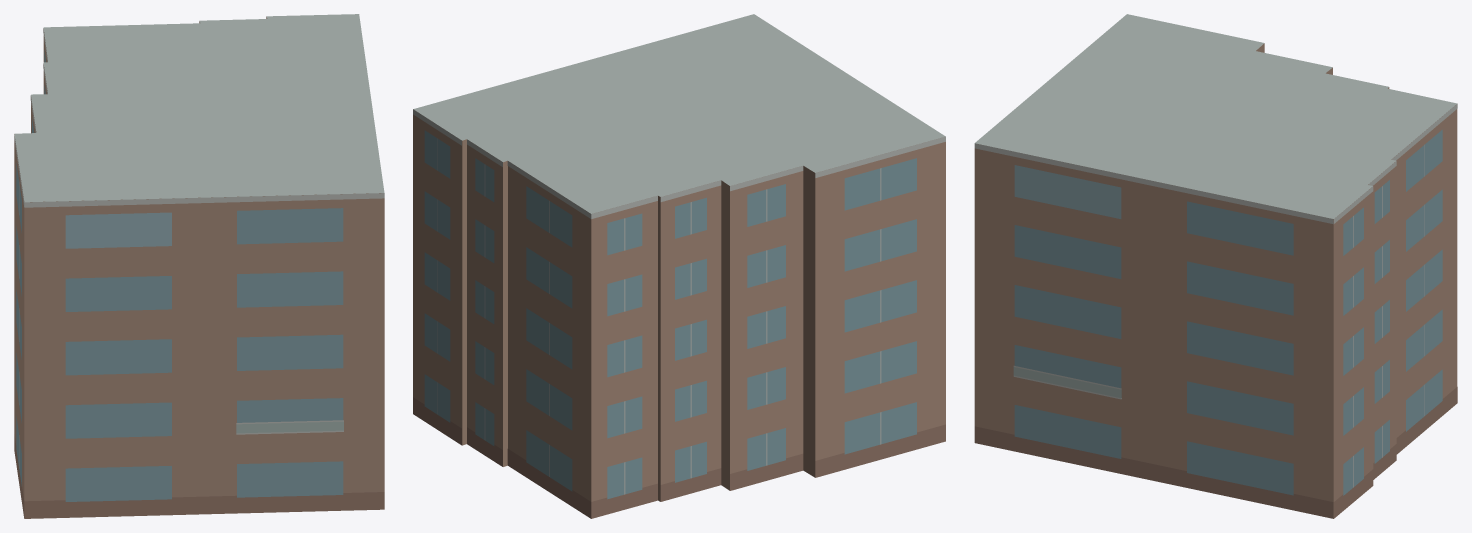
File: survey-upis-32710021.glb
3 views of the same model, side by side, from view 1: azimuth 30°, elevation 25°; view 2: azimuth 150°, elevation 25°; view 3: azimuth 270°, elevation 25° (orthographic). The views are drawn at different scales.
Parts seen in each view (by area): view 1: survey-upis-32710021.tmp; view 2: survey-upis-32710021.tmp; view 3: survey-upis-32710021.tmp.
Boxes of the visible parts, x1=… form: survey-upis-32710021.tmp: x1=14, y1=14, x2=384, y2=518; survey-upis-32710021.tmp: x1=413, y1=14, x2=945, y2=518; survey-upis-32710021.tmp: x1=974, y1=14, x2=1457, y2=518.
Size of the model in its own units: 20.85 by 14.2 by 20.74.
